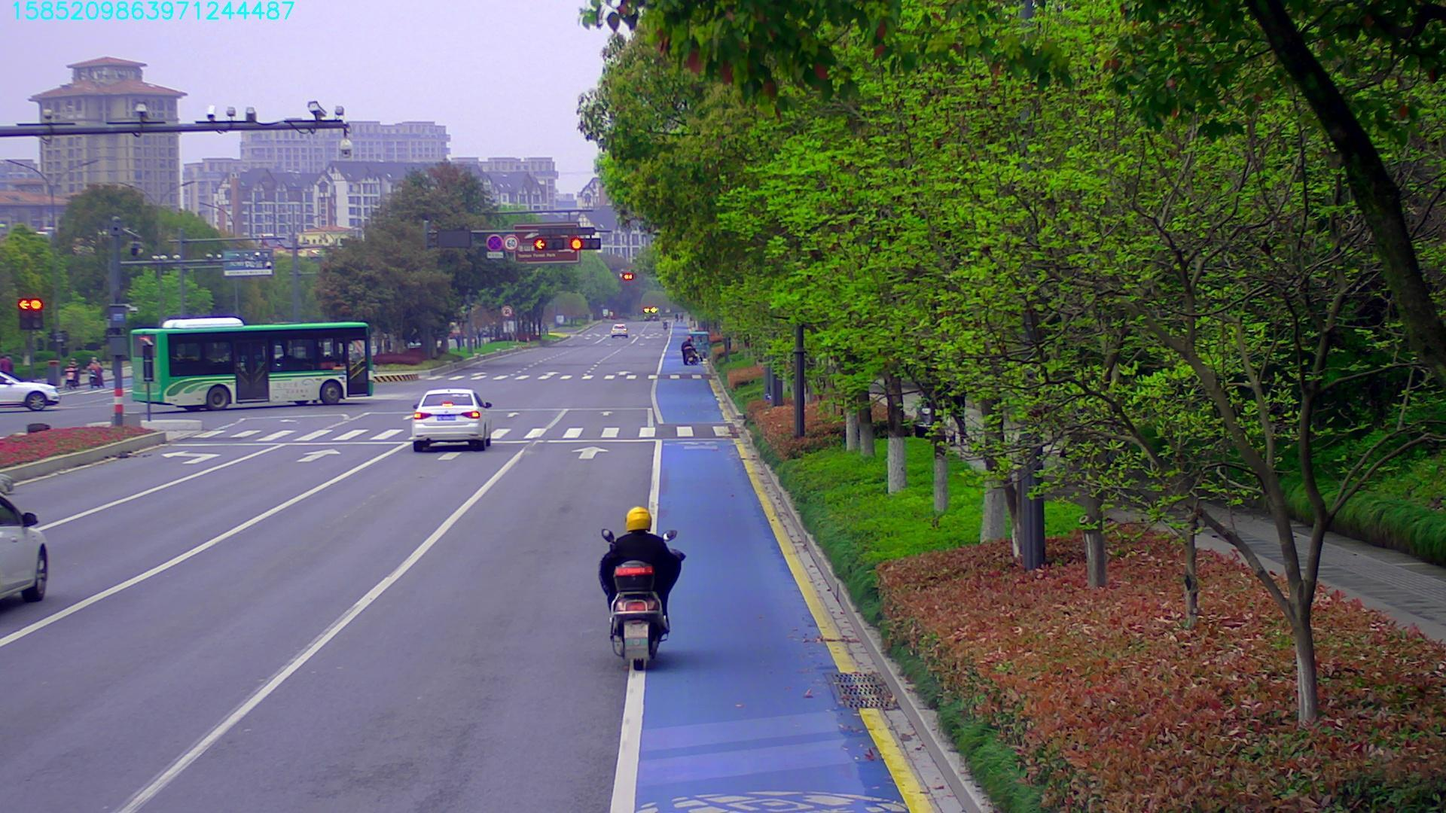red: (532, 236, 559, 251), (569, 236, 598, 247)
